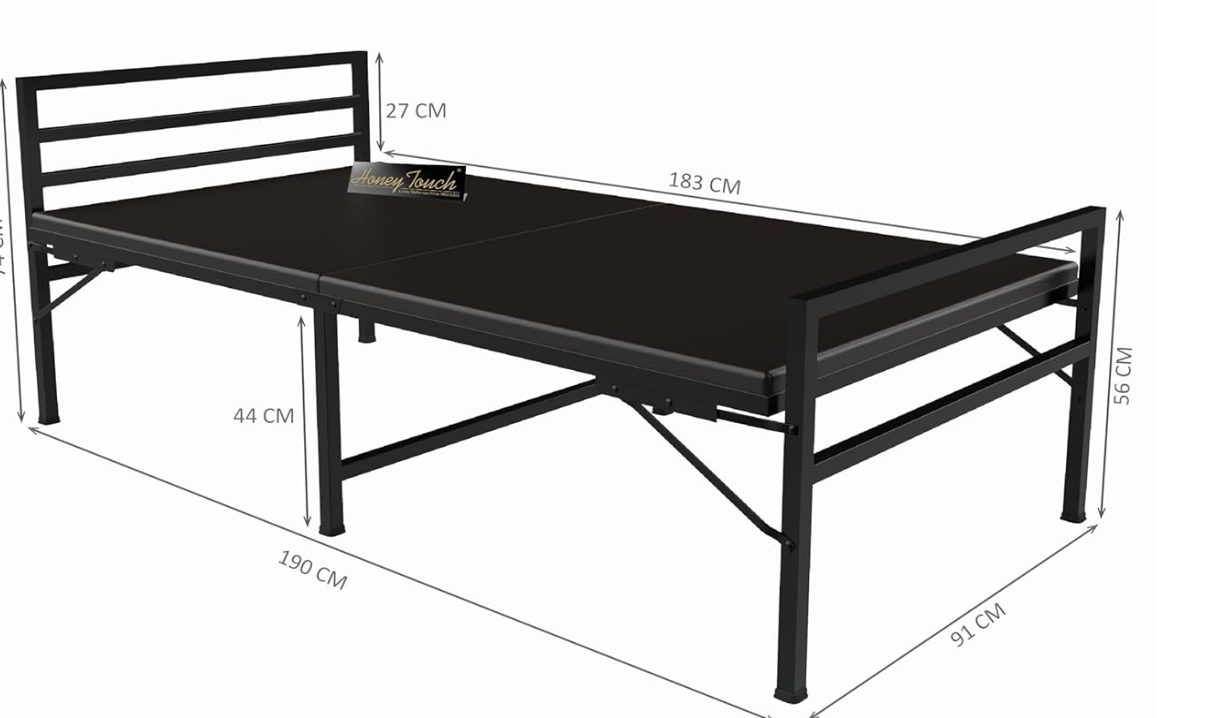cot: (9, 41, 1135, 718)
